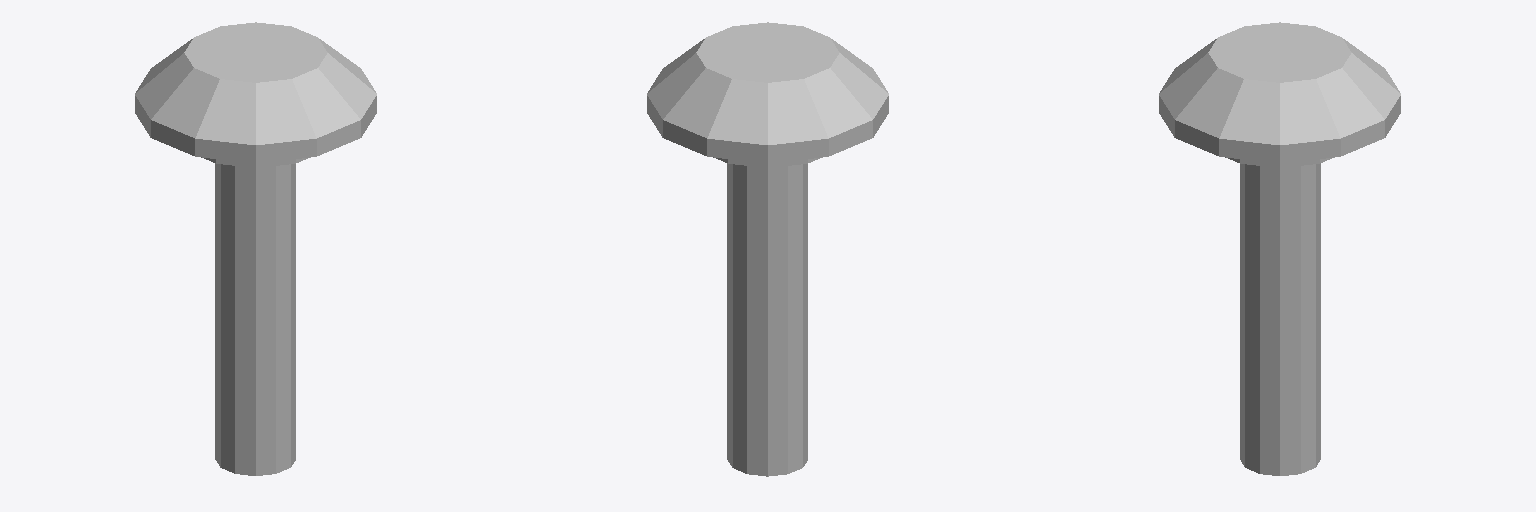
File: TrumpetKey3.obj
The picture shows the model from 3 angles: view 1: azimuth 30°, elevation 25°; view 2: azimuth 150°, elevation 25°; view 3: azimuth 270°, elevation 25°; orthographic projection.
Visible parts, largest first — view 1: Converted object 0(m0), Converted object 0(m1); view 2: Converted object 0(m0), Converted object 0(m1); view 3: Converted object 0(m0), Converted object 0(m1).
Part boxes in pixels (x1,y1,x2,y2): Converted object 0(m0): (135, 22, 376, 167); Converted object 0(m1): (215, 163, 295, 475); Converted object 0(m0): (647, 22, 888, 167); Converted object 0(m1): (727, 163, 807, 476); Converted object 0(m0): (1159, 22, 1400, 167); Converted object 0(m1): (1240, 163, 1320, 475).
Size of the model in its own units: 0.6058 by 1.12 by 0.6058.